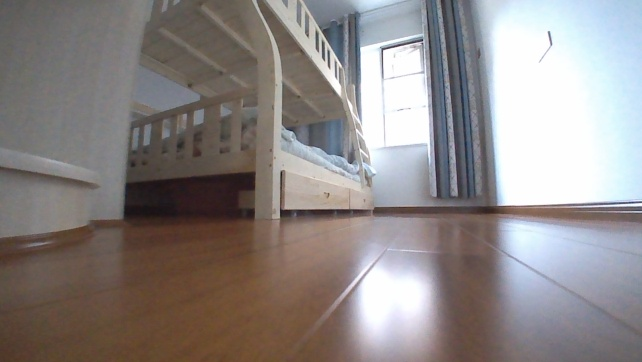bed: (124, 0, 377, 220)
